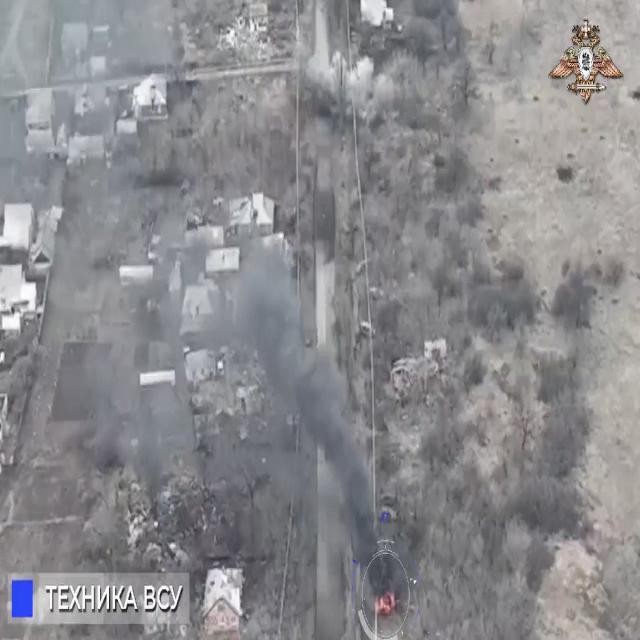destroyed: (374, 592, 396, 614)
